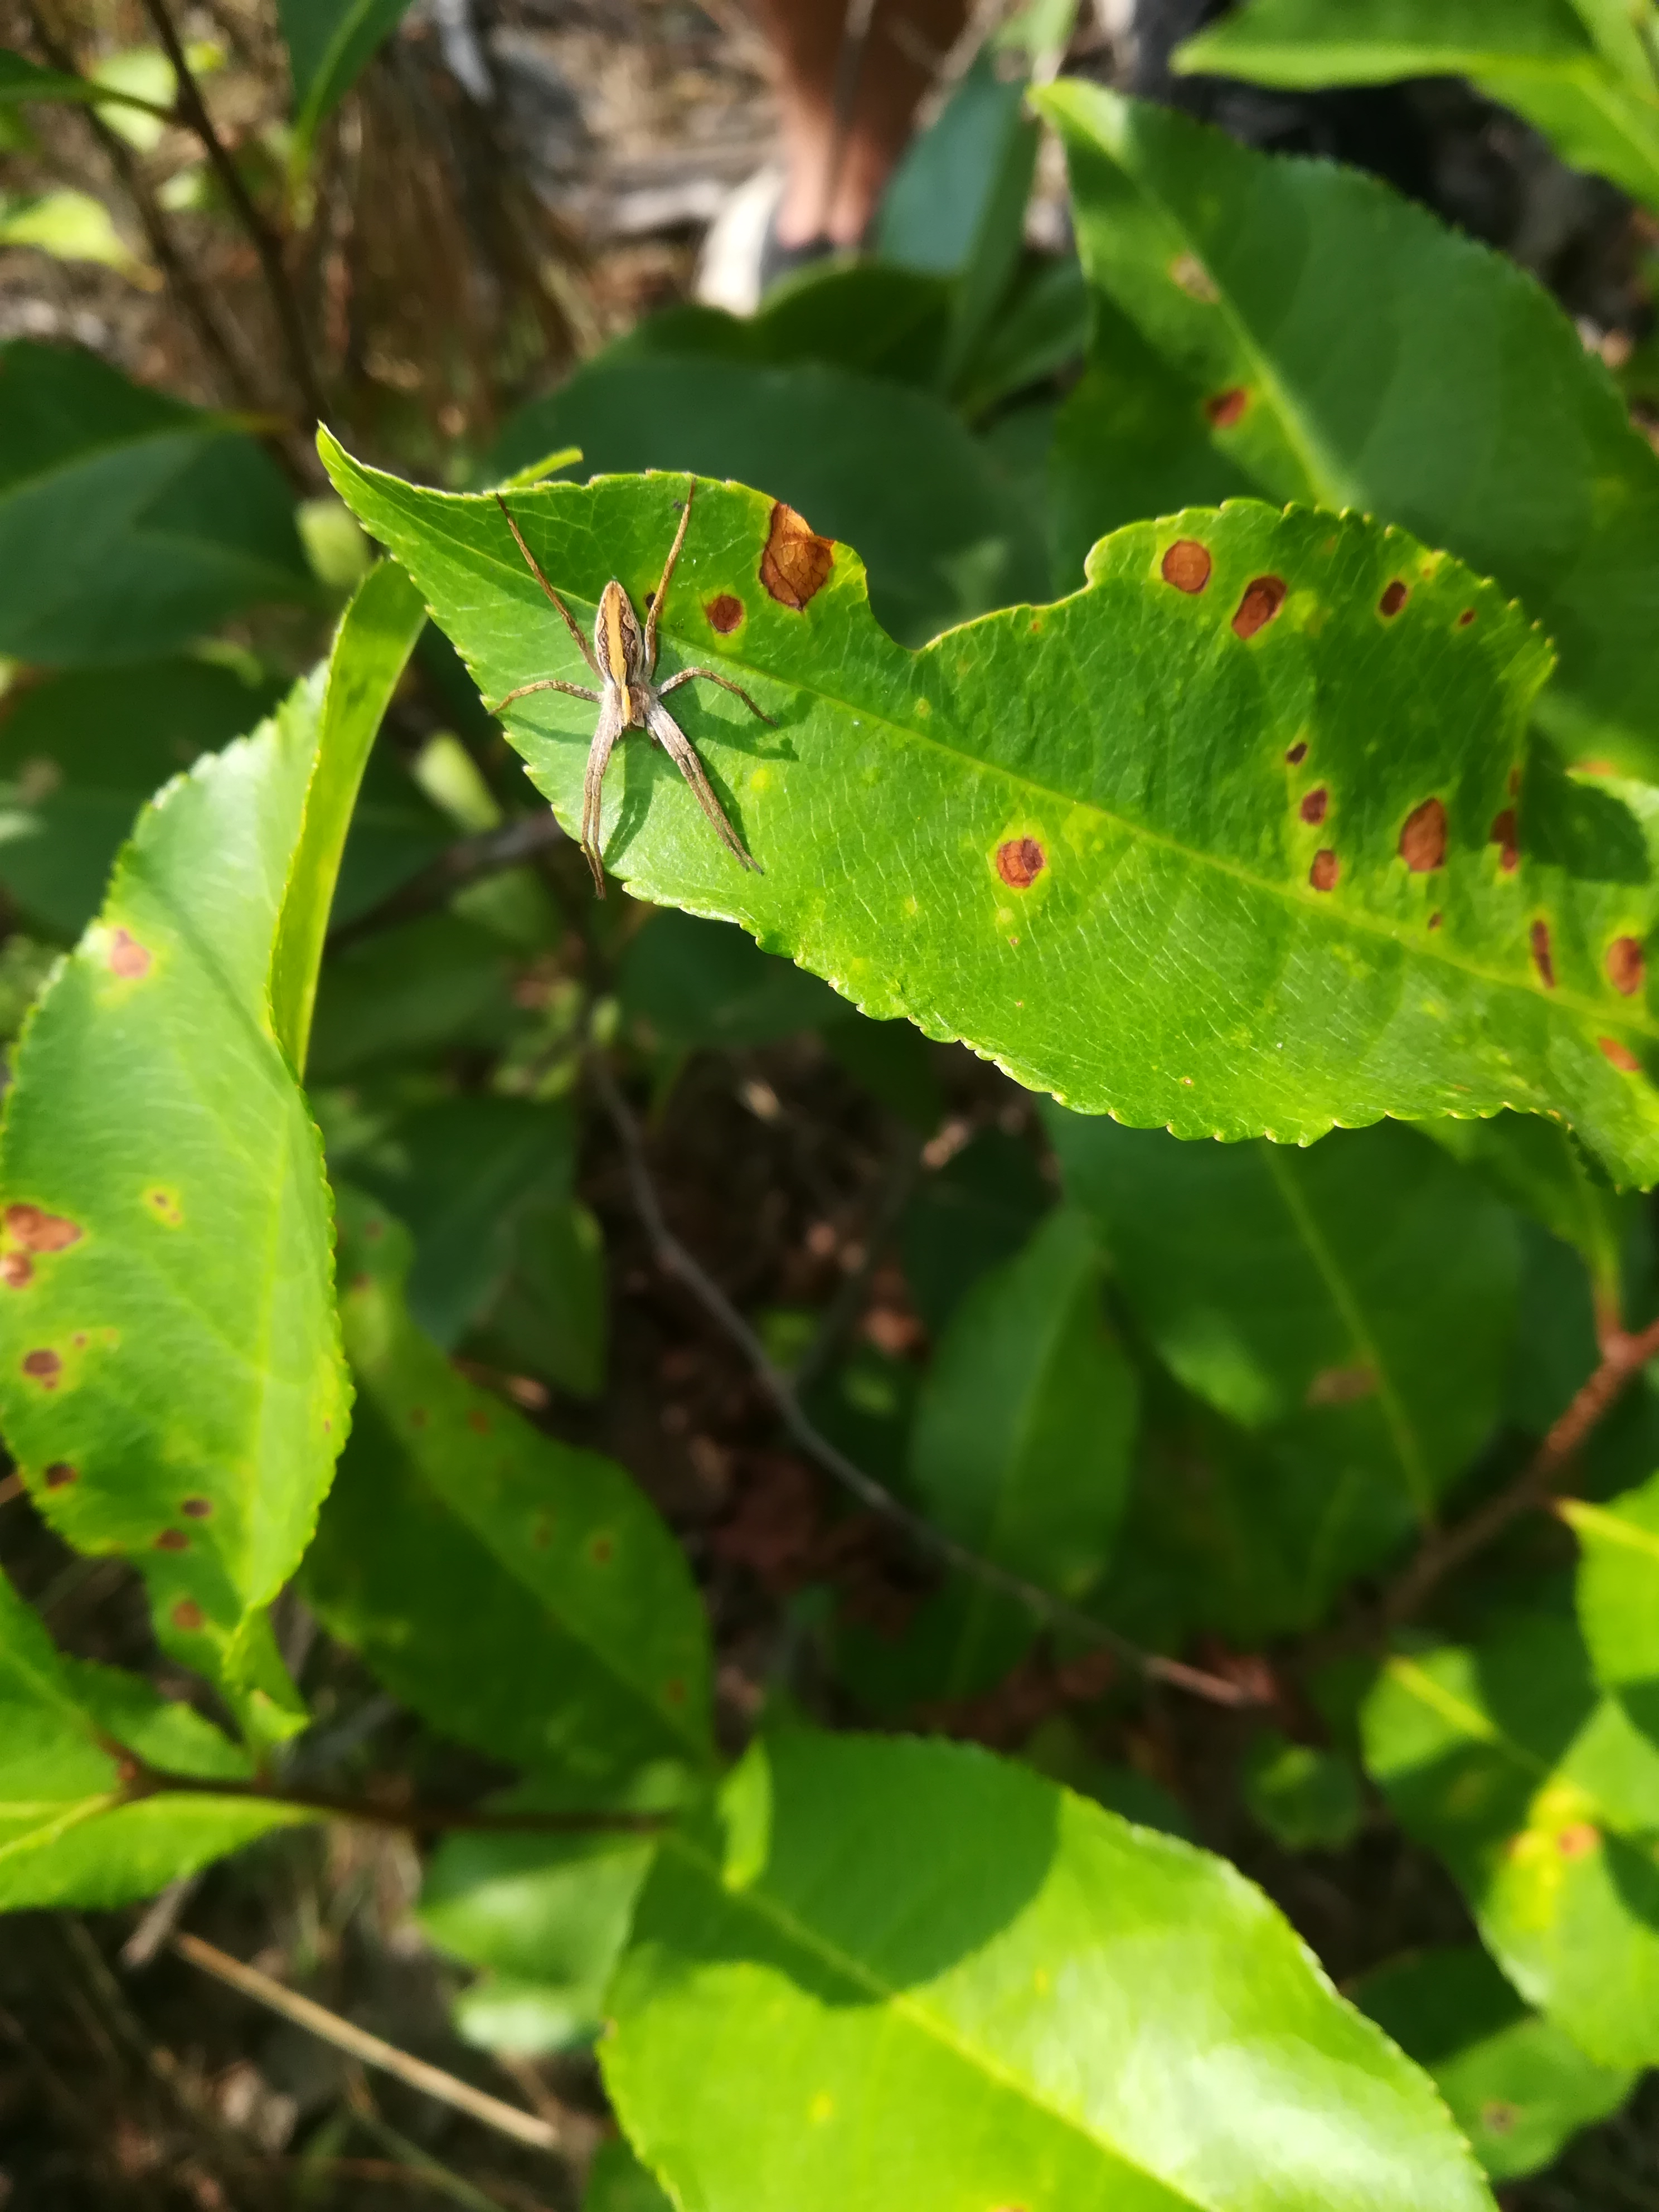spider: (427, 441, 835, 939)
